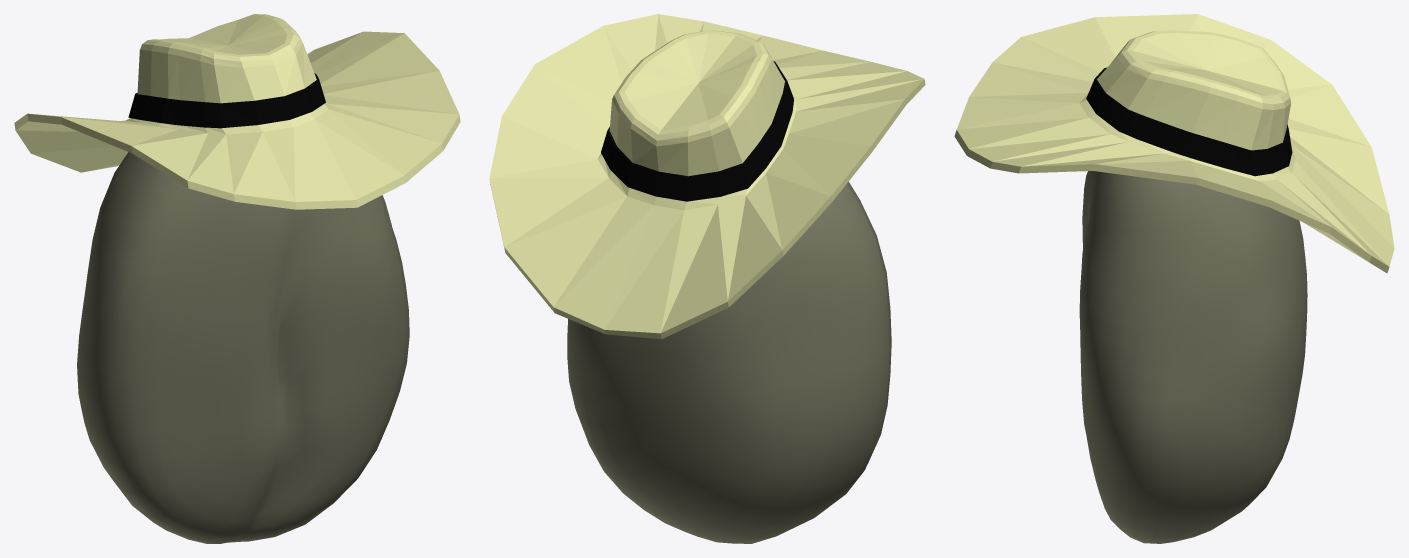
File: Cafecito.fbx
3 renders of one model, left to right at view 1: azimuth 30°, elevation 25°; view 2: azimuth 150°, elevation 25°; view 3: azimuth 270°, elevation 25°, orthographic. The views are drawn at different scales.
Visible parts, largest first — view 1: Cafe, Sombrero; view 2: Sombrero, Cafe; view 3: Cafe, Sombrero.
Boxes of the visible parts, x1,y1,x2,y2 form: Cafe: [77, 152, 409, 543]; Sombrero: [14, 14, 460, 209]; Sombrero: [489, 14, 925, 339]; Cafe: [567, 181, 891, 543]; Cafe: [1079, 171, 1307, 543]; Sombrero: [954, 14, 1394, 273].
Size of the model in its own units: 5.67 by 7.83 by 6.43.
